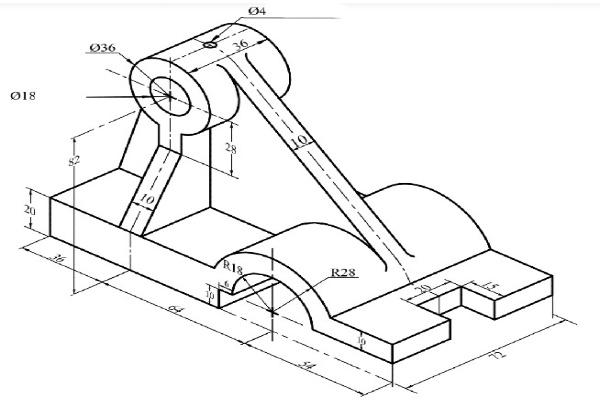dimensions: (3, 86, 44, 107), (86, 37, 117, 54), (221, 257, 247, 277), (45, 248, 71, 267), (328, 262, 358, 278), (486, 348, 511, 365), (295, 356, 318, 374), (17, 202, 42, 218), (232, 35, 253, 54), (165, 300, 187, 318), (63, 153, 85, 169), (288, 133, 310, 149), (413, 282, 435, 297), (223, 138, 241, 156), (482, 278, 503, 293), (248, 2, 269, 17), (356, 331, 369, 346), (202, 289, 217, 299)
